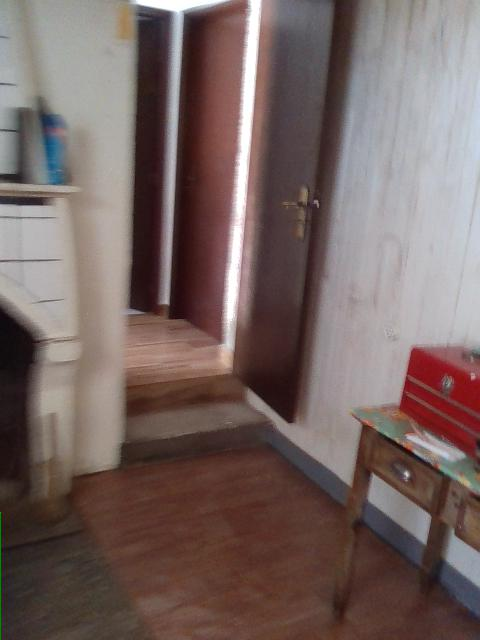door: (241, 1, 338, 425), (183, 12, 243, 340)
